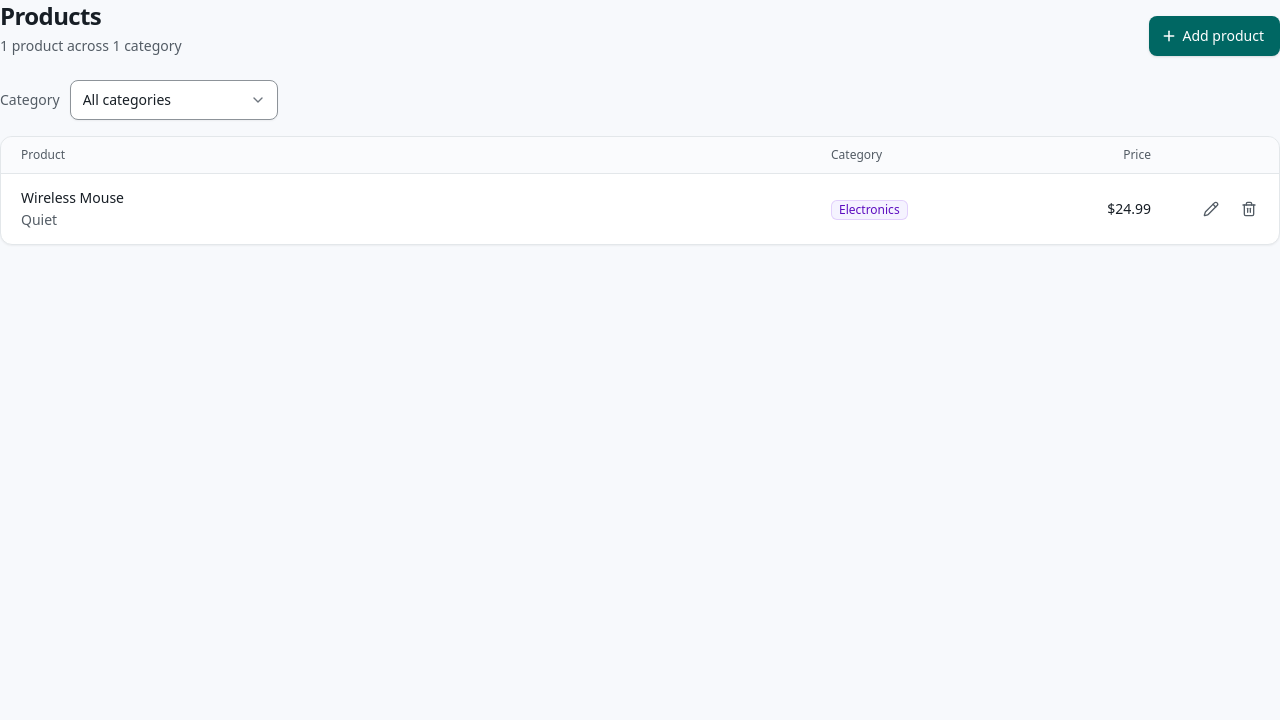
it: edit product › prefills the form and saves changes with PUT
The image size is (1280, 720).
Click the button named "Edit Wireless Mouse".
click(1211, 209)  # box 1193,191 -> 1229,227
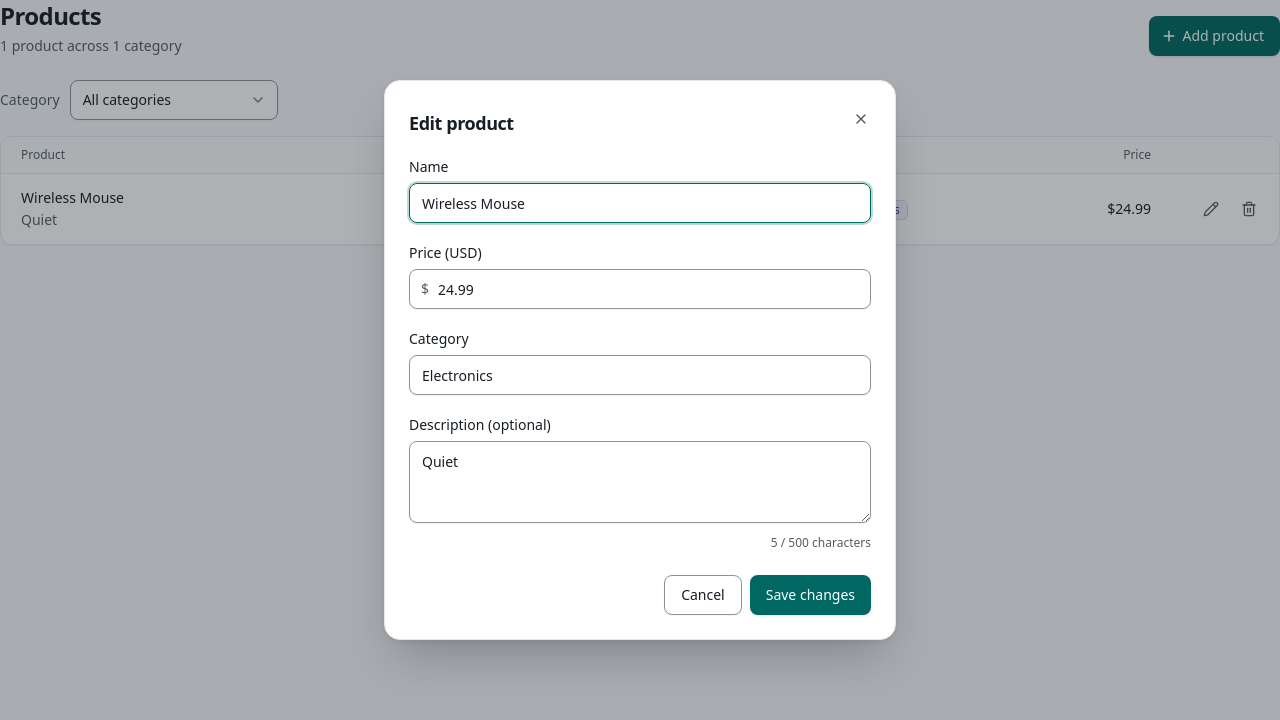
Result: the field labelled "Name" holds "Wireless Mouse" at 409,183 -> 871,223
Result: the field labelled "Price (USD)" holds "24.99"
Result: the text box labelled "Description (optional)" holds "Quiet" at 409,441 -> 871,523
Replace the text in the field labelled "Price (USD)" with "19.99" at (640, 289), box 409,269 -> 871,309
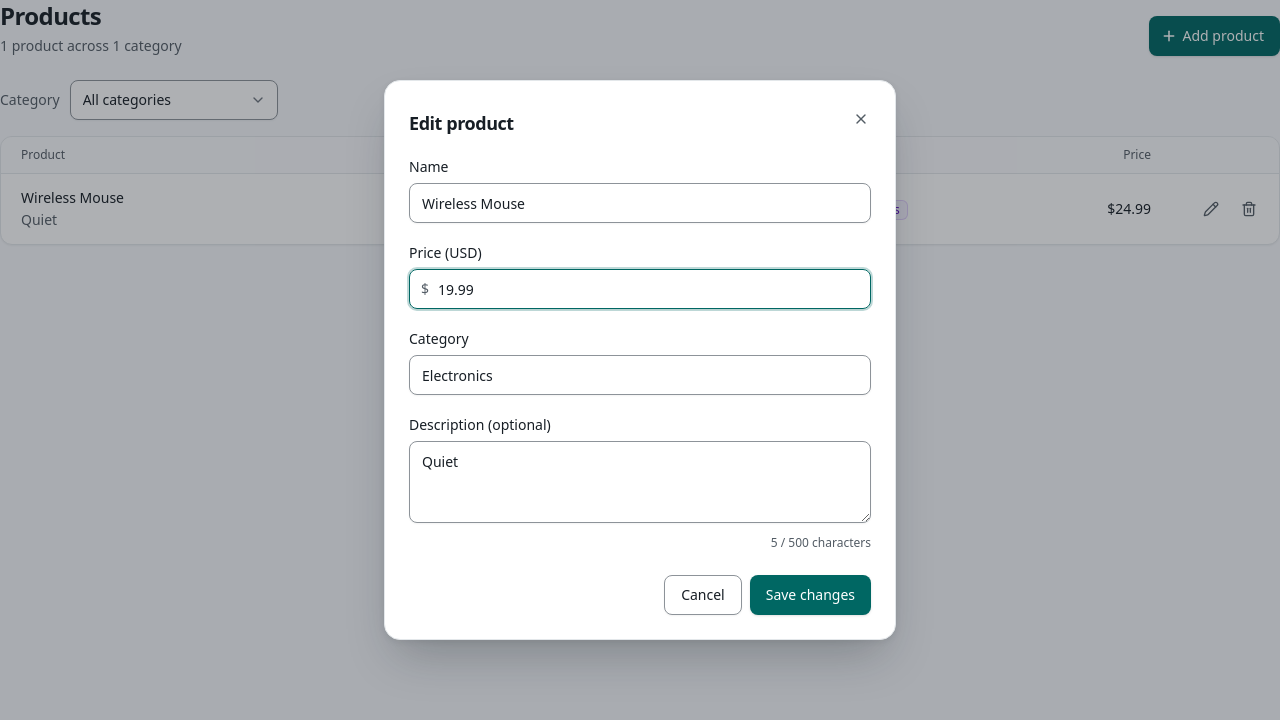
Click the button "Save changes".
click(810, 595)  # box 750,575 -> 871,615
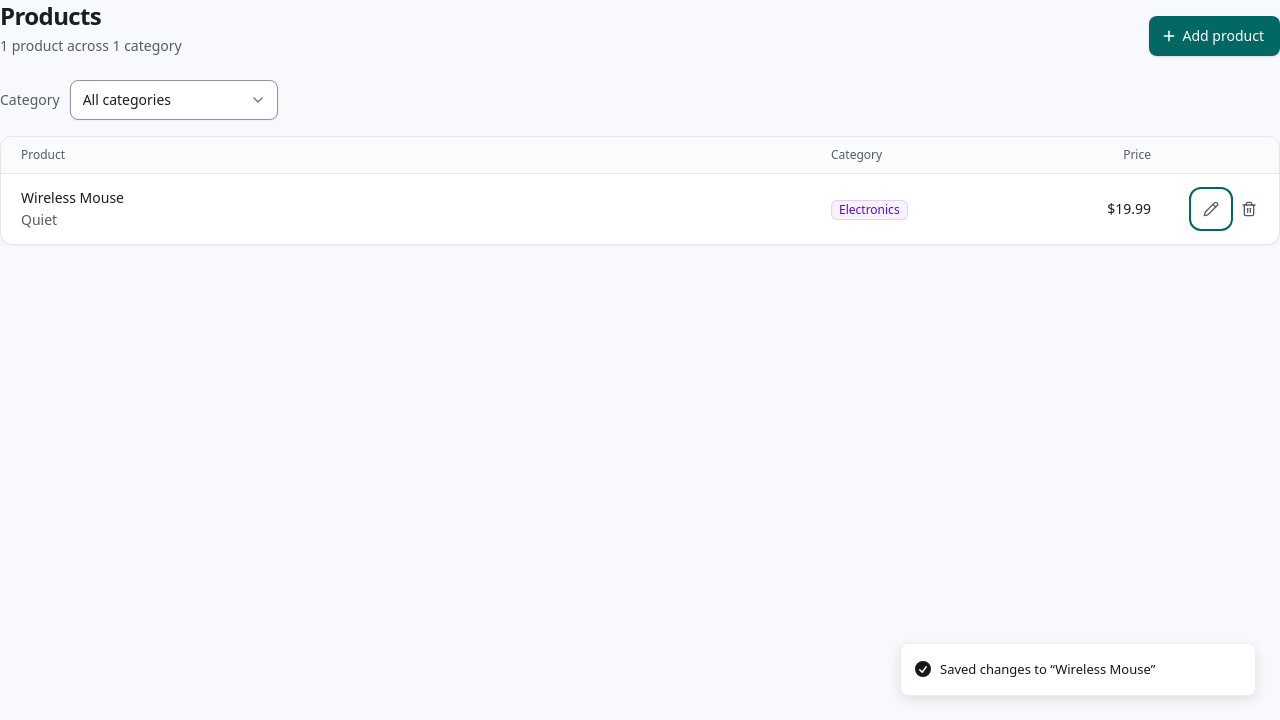
Result: the text "$19.99" is shown at 1023,174 -> 1167,244
Result: the text "Saved changes to “Wireless Mouse”" is shown at 940,660 -> 1155,679
